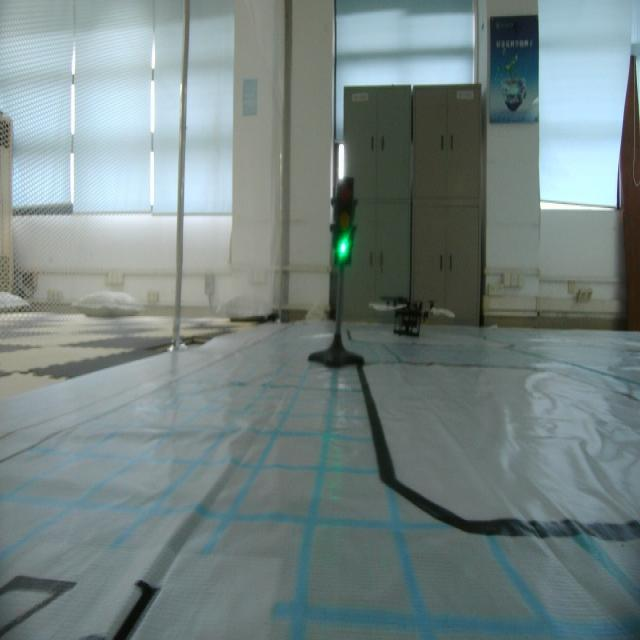green: (328, 179, 360, 269)
